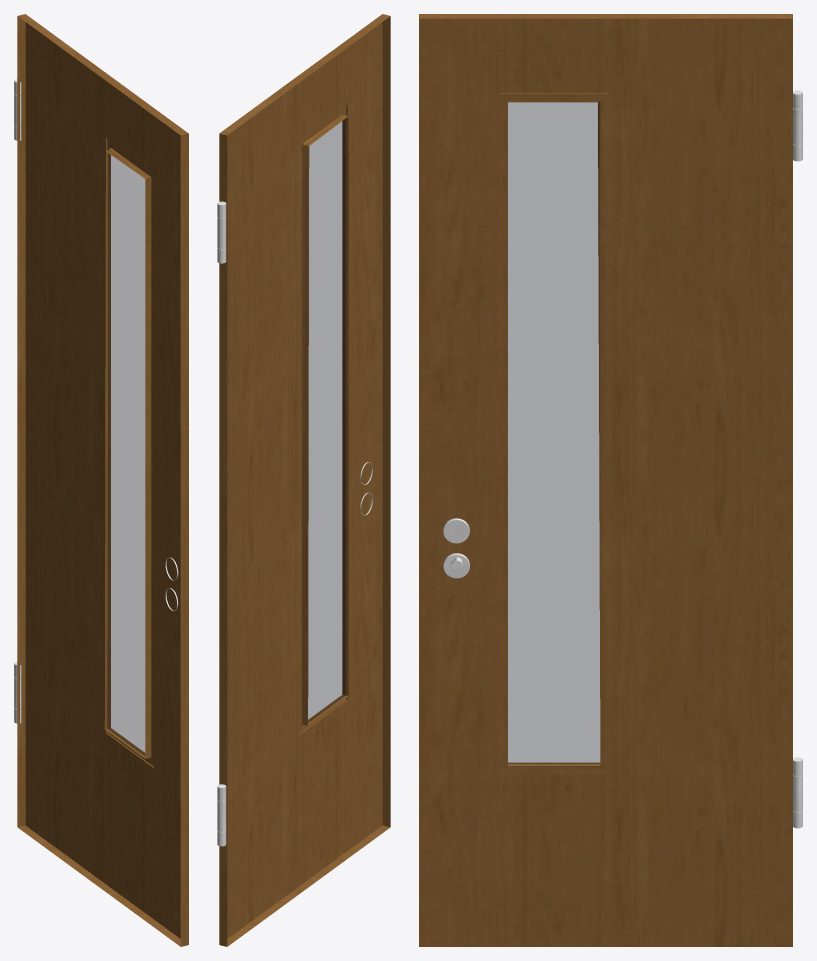
The model's file is Door03.fbx.
The picture shows the model from 3 angles, left to right: view 1: azimuth 30°, elevation 25°; view 2: azimuth 150°, elevation 25°; view 3: azimuth 270°, elevation 25°; orthographic projection. The views are drawn at different scales.
Visible parts, largest first — view 1: Door; view 2: Door; view 3: Door.
Part boxes in pixels (x1,y1,x2,y2): Door: [14, 14, 188, 946]; Door: [217, 14, 390, 946]; Door: [419, 14, 802, 946].
Size of what is drawn, in the model's own units: 4.59 by 81.4 by 217.
Materials: 3 (2 with a texture image).
